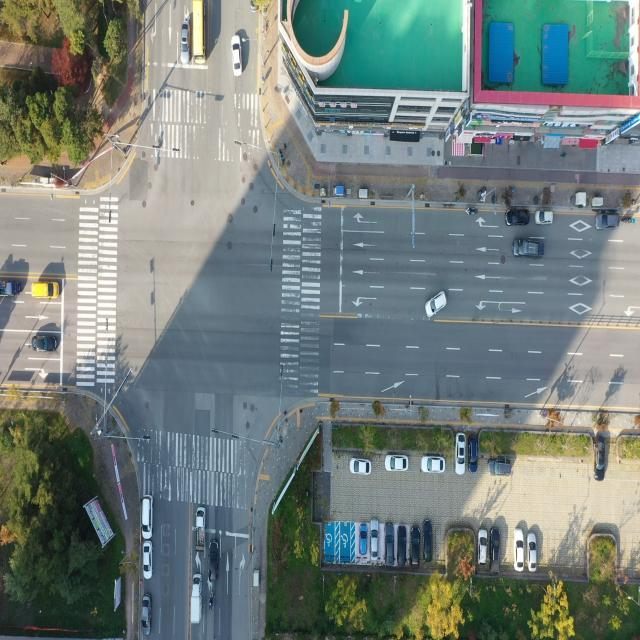car: (427, 292, 448, 321), (33, 281, 61, 300), (142, 500, 154, 543), (488, 458, 512, 478), (33, 336, 59, 354), (491, 528, 502, 570), (515, 240, 539, 259), (210, 541, 220, 586), (454, 432, 465, 472), (423, 518, 433, 562), (412, 524, 422, 566), (596, 437, 607, 475), (422, 456, 445, 474), (512, 533, 522, 574), (141, 596, 151, 637), (369, 524, 379, 564), (397, 525, 407, 565), (386, 455, 409, 472), (596, 213, 619, 230), (508, 210, 531, 227), (142, 540, 152, 579), (468, 437, 478, 474), (234, 37, 243, 77), (386, 525, 395, 565), (351, 459, 372, 476), (181, 20, 189, 64), (528, 532, 537, 571), (480, 531, 490, 566), (359, 524, 368, 558), (534, 210, 553, 225), (250, 0, 258, 13)
small_bus: (193, 0, 209, 63)
small_truck: (190, 574, 202, 625), (198, 507, 208, 550), (0, 279, 21, 299)
